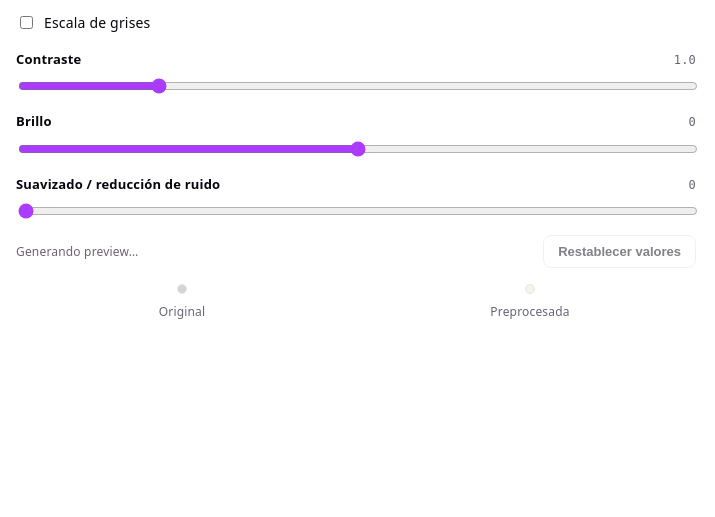
Scenario: PreprocessPanel — carga inicial › Restablecer valores está deshabilitado en los valores por defecto y se habilita tras mover un slider
expect the text "Preprocesada" is shown: met, box [490, 300, 570, 323]
expect the button "Restablecer valores" is disabled: met, box [543, 235, 696, 268]
Set the slider labelled "Brillo" to "20" at (424, 149), box [18, 141, 698, 157]
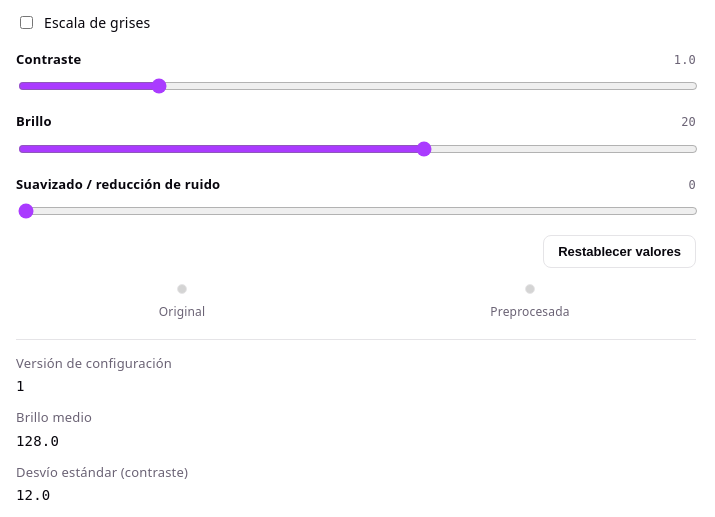
expect the button "Restablecer valores" is enabled: met, box [543, 235, 696, 268]
